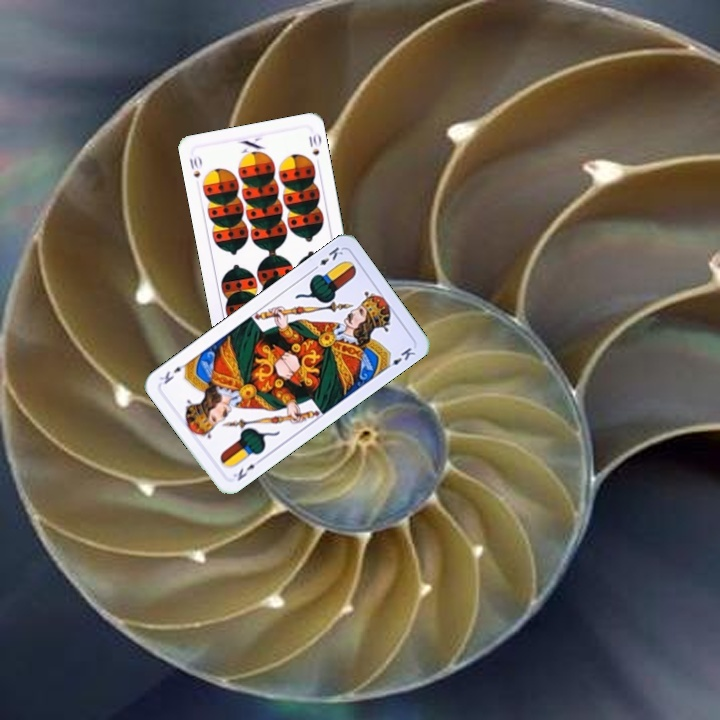EK: (308, 242, 346, 274), (229, 455, 264, 484)
S10: (185, 152, 205, 180)
